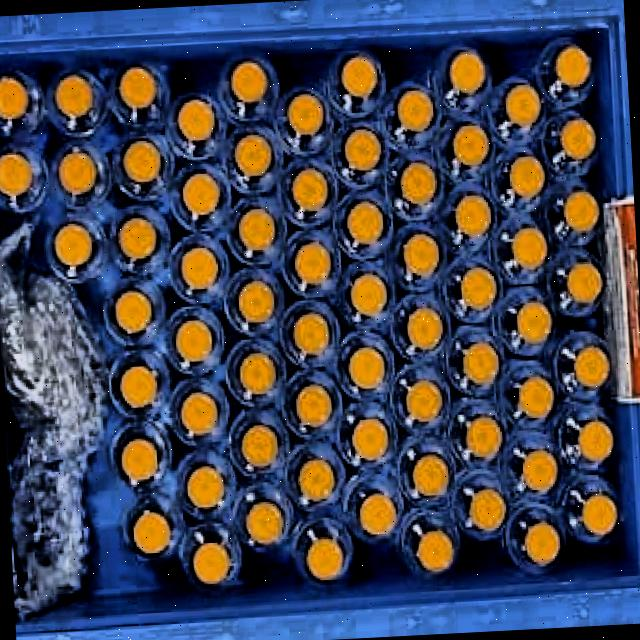vial: (303, 537, 346, 584), (553, 39, 592, 90), (119, 436, 160, 484), (131, 509, 172, 556), (524, 518, 563, 567), (240, 424, 281, 470), (180, 172, 222, 216), (451, 122, 492, 167), (294, 383, 335, 428), (411, 451, 452, 496), (349, 271, 389, 317), (456, 267, 498, 310), (53, 223, 94, 267), (581, 493, 621, 538), (417, 528, 456, 574), (403, 231, 441, 278), (290, 312, 331, 355), (117, 216, 157, 260), (245, 500, 285, 544), (348, 344, 387, 389), (297, 458, 336, 503), (504, 81, 542, 127), (516, 375, 554, 421), (565, 262, 606, 304), (122, 141, 162, 184), (175, 319, 215, 362), (233, 133, 273, 176), (185, 465, 225, 508), (516, 301, 555, 345), (562, 190, 600, 235), (358, 495, 399, 536), (231, 59, 270, 102), (399, 161, 438, 204), (462, 341, 501, 384), (577, 419, 616, 462), (560, 117, 598, 161), (454, 193, 492, 237), (193, 541, 230, 586), (178, 99, 216, 142), (119, 66, 156, 110), (239, 207, 276, 251), (406, 308, 443, 352), (181, 391, 218, 435), (56, 74, 94, 116), (179, 246, 217, 288), (346, 201, 384, 243), (115, 290, 152, 333), (292, 168, 329, 211), (450, 51, 487, 94), (405, 379, 442, 422), (574, 346, 611, 389), (288, 93, 324, 137), (342, 53, 378, 97), (397, 88, 433, 132), (523, 448, 559, 492), (294, 241, 332, 282), (509, 154, 546, 196), (237, 281, 274, 323), (121, 366, 157, 409), (352, 417, 388, 460), (465, 416, 501, 459), (471, 488, 506, 532), (513, 226, 550, 267), (240, 353, 276, 395), (59, 155, 96, 195), (0, 151, 32, 197), (346, 128, 381, 170), (0, 77, 29, 119)
